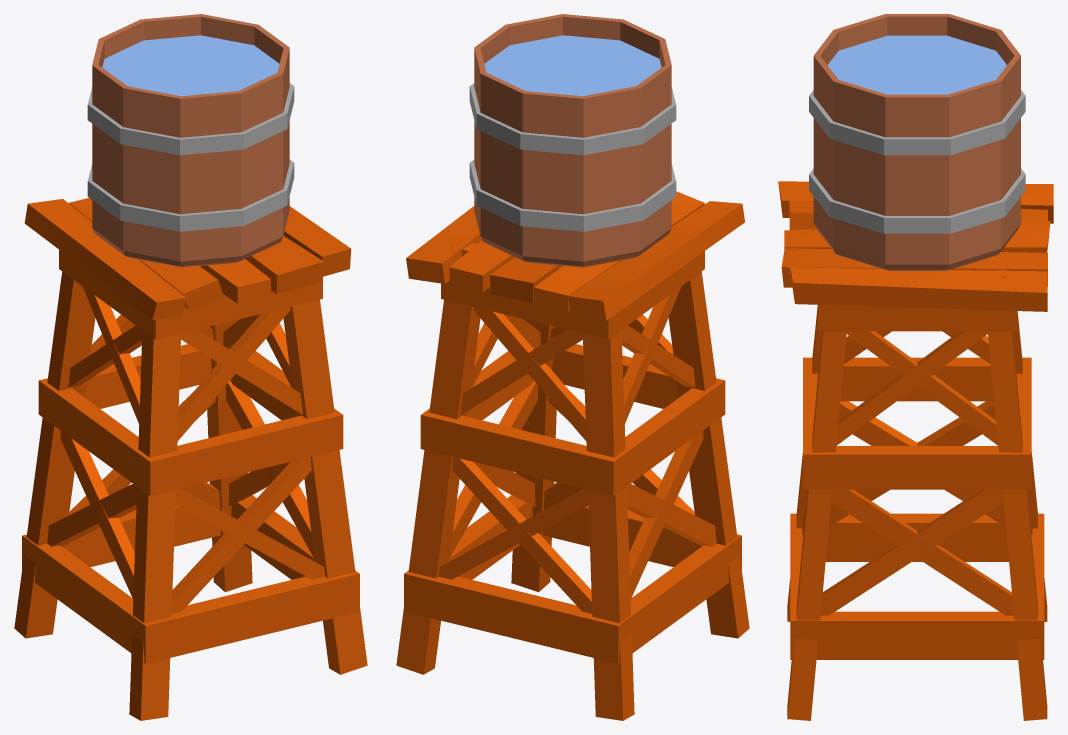
File: WaterBarrel.fbx
The picture shows the model from 3 angles, left to right: view 1: azimuth 30°, elevation 25°; view 2: azimuth 150°, elevation 25°; view 3: azimuth 270°, elevation 25°; orthographic projection. The views are drawn at different scales.
Parts seen in each view (by area): view 1: WaterBarrel; view 2: WaterBarrel; view 3: WaterBarrel.
Boxes of the visible parts, x1,y1,x2,y2 form: WaterBarrel: [14, 14, 367, 720]; WaterBarrel: [396, 14, 749, 720]; WaterBarrel: [778, 14, 1053, 720].
Bounding box in the file's own units: 3.45 × 3.53 × 8.65.
